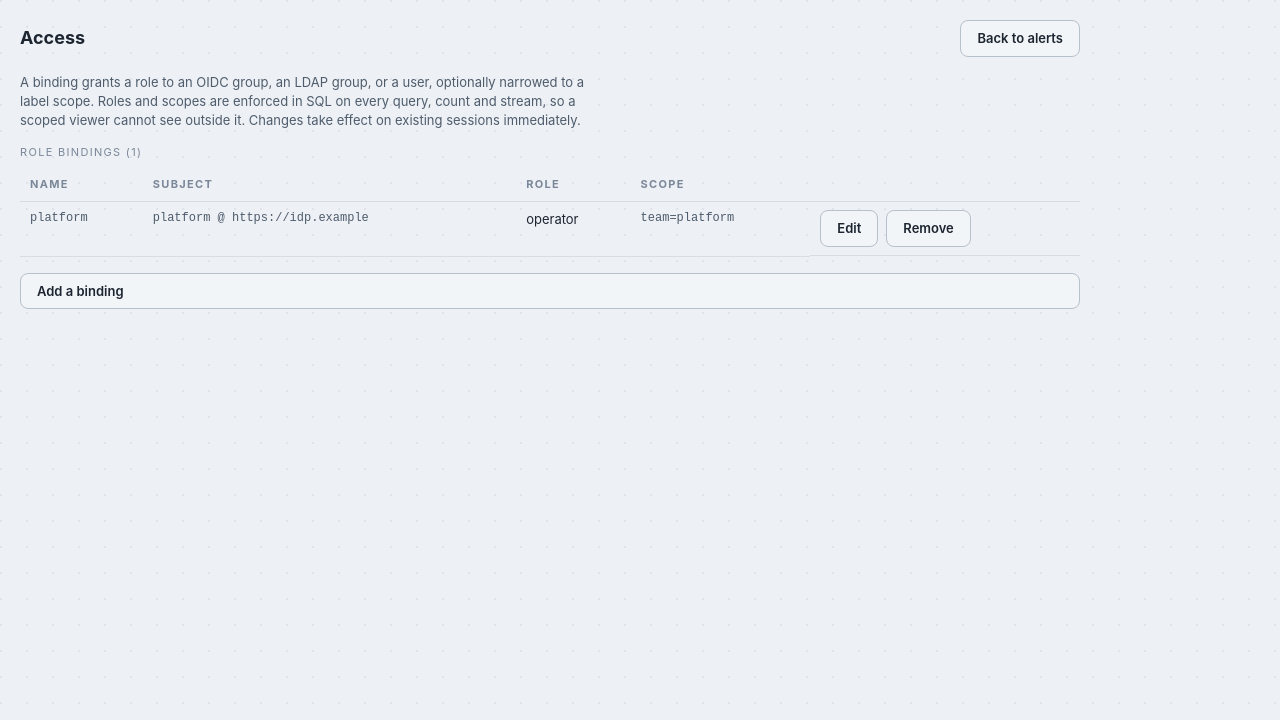
AccessPanel › will not rename an existing binding, because that is a different one
The width and height of the screenshot is (1280, 720).
Check: the text "platform" is shown, box [20,202,143,256]
Click the button "Edit" at (849, 229), box [820,210,878,247]
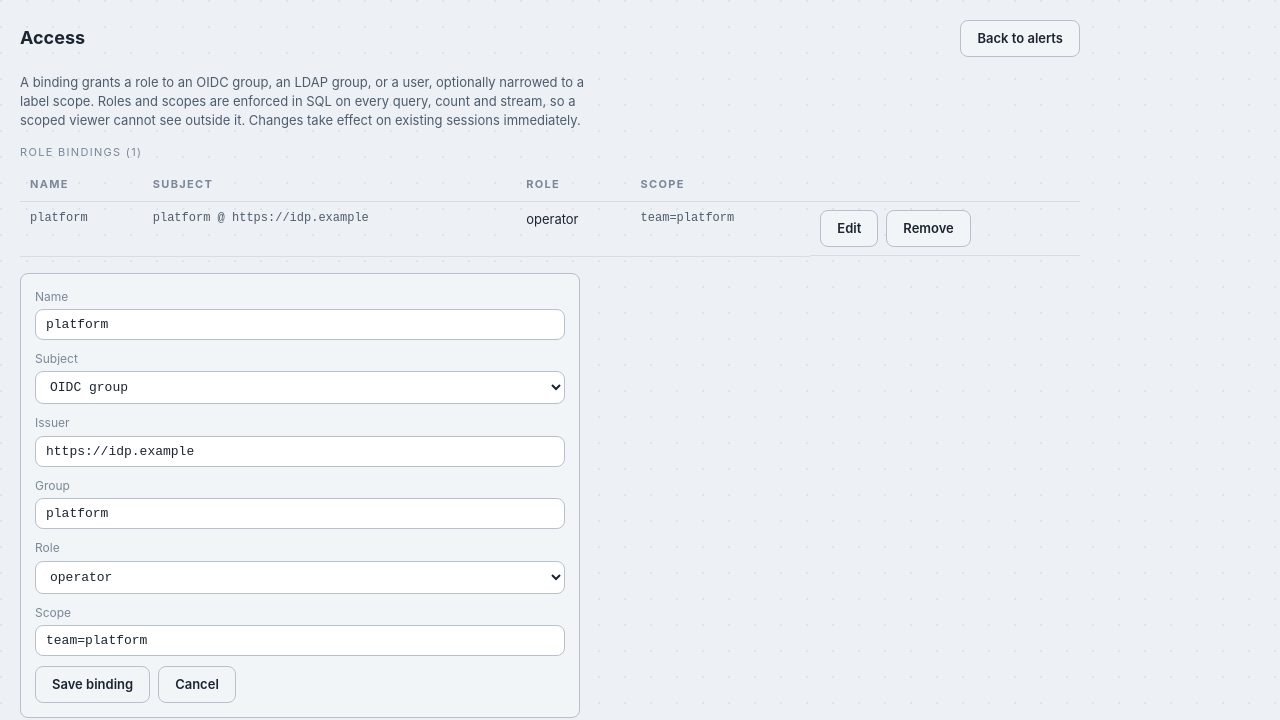
Check: the field labelled "Name" is disabled, box [35,309,565,340]
